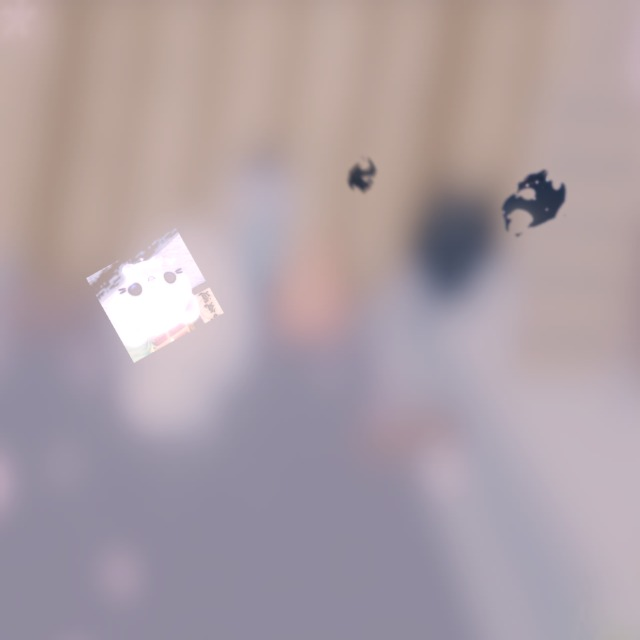urso_branco: (86, 228, 224, 363)
urso_preto: (476, 150, 591, 256), (336, 149, 389, 204)
